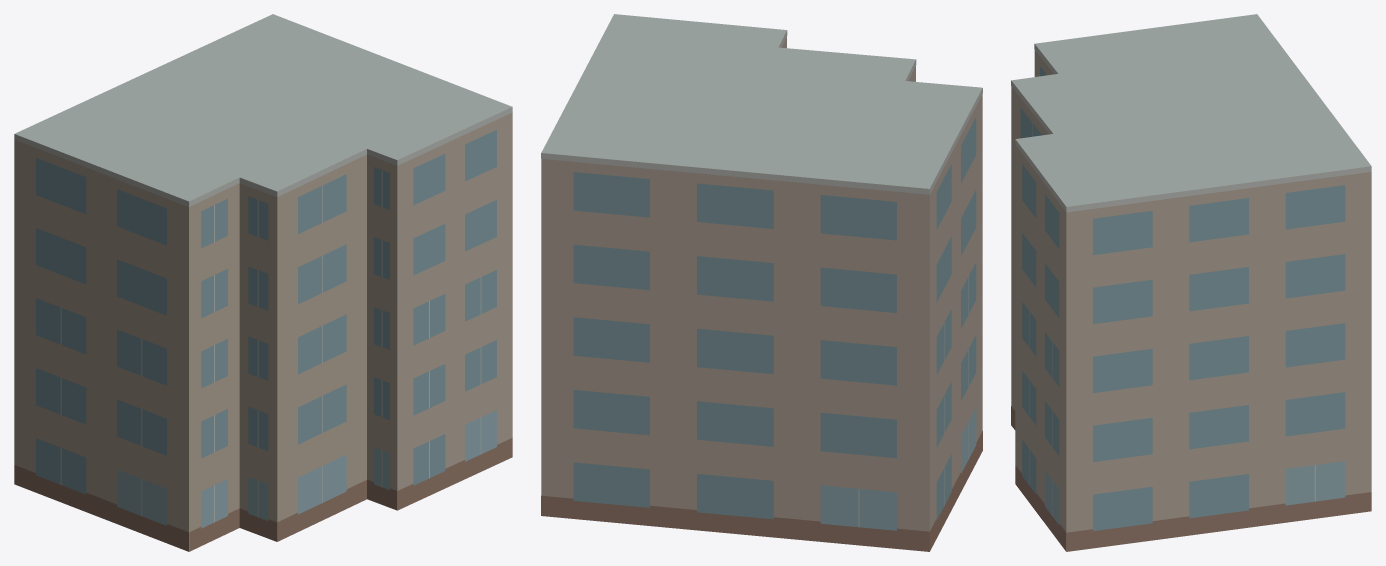
File: survey-upis-33045740.glb
The picture shows the model from 3 angles, left to right: view 1: azimuth 30°, elevation 25°; view 2: azimuth 150°, elevation 25°; view 3: azimuth 270°, elevation 25°; orthographic projection. The views are drawn at different scales.
Parts seen in each view (by area): view 1: survey-upis-33045740.tmp; view 2: survey-upis-33045740.tmp; view 3: survey-upis-33045740.tmp.
Boxes of the visible parts, bbox=[...] form: survey-upis-33045740.tmp: bbox=[14, 14, 512, 551]; survey-upis-33045740.tmp: bbox=[541, 14, 982, 551]; survey-upis-33045740.tmp: bbox=[1011, 14, 1371, 551].
Size of the model in its own units: 18.3 by 15.25 by 14.45.
